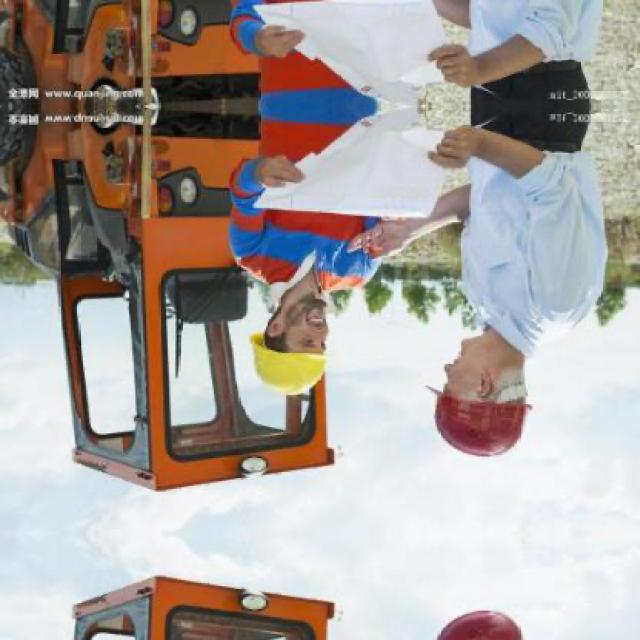con casco: (389, 340, 547, 495), (239, 293, 336, 408)
